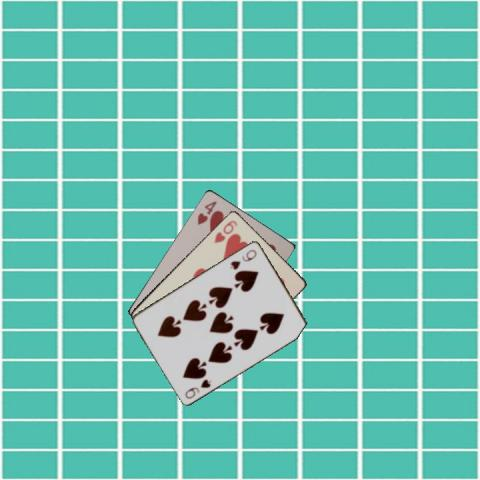4h: (195, 197, 218, 226)
6h: (210, 217, 238, 244)
9s: (227, 246, 258, 271), (182, 376, 213, 400)
